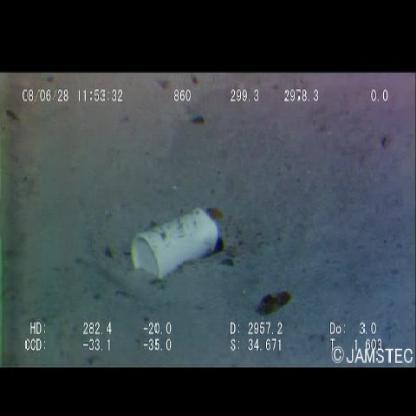Rác: (132, 209, 224, 282)
